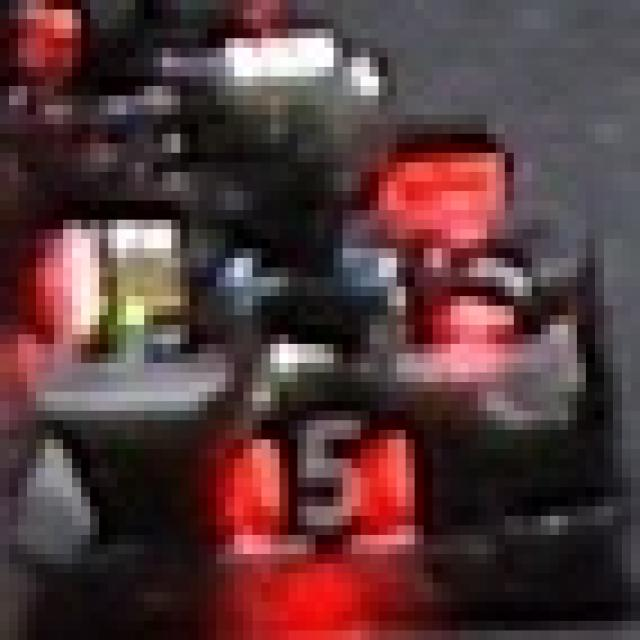R5: (194, 401, 419, 554), (401, 182, 536, 334)
